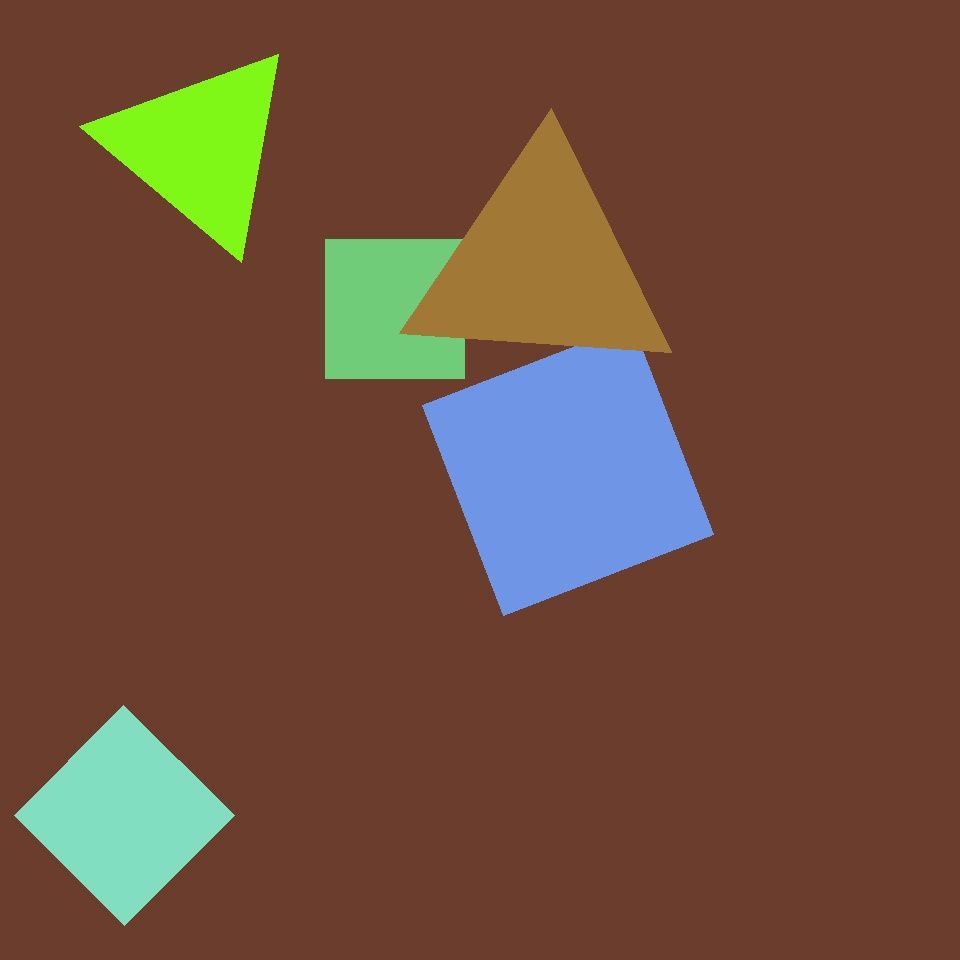circle: (405, 143, 677, 387), (100, 44, 300, 252)
square: (422, 324, 714, 616), (14, 705, 234, 925), (326, 240, 464, 378)
